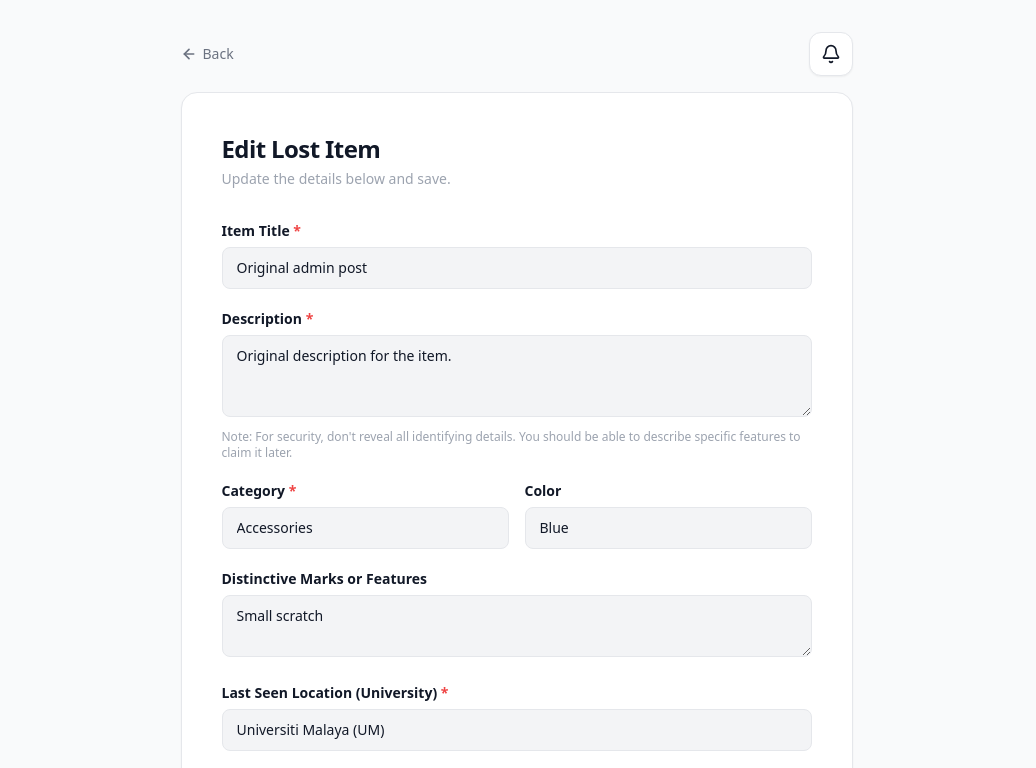
ReportLostItemPage - admin edit › sends the edited fields and status, then returns to the item
Replace the text in the field showing "Original admin post" below "Item Title" with "Edited by administrator" at [516, 268], box [222, 247, 812, 289]
(page scrolled)
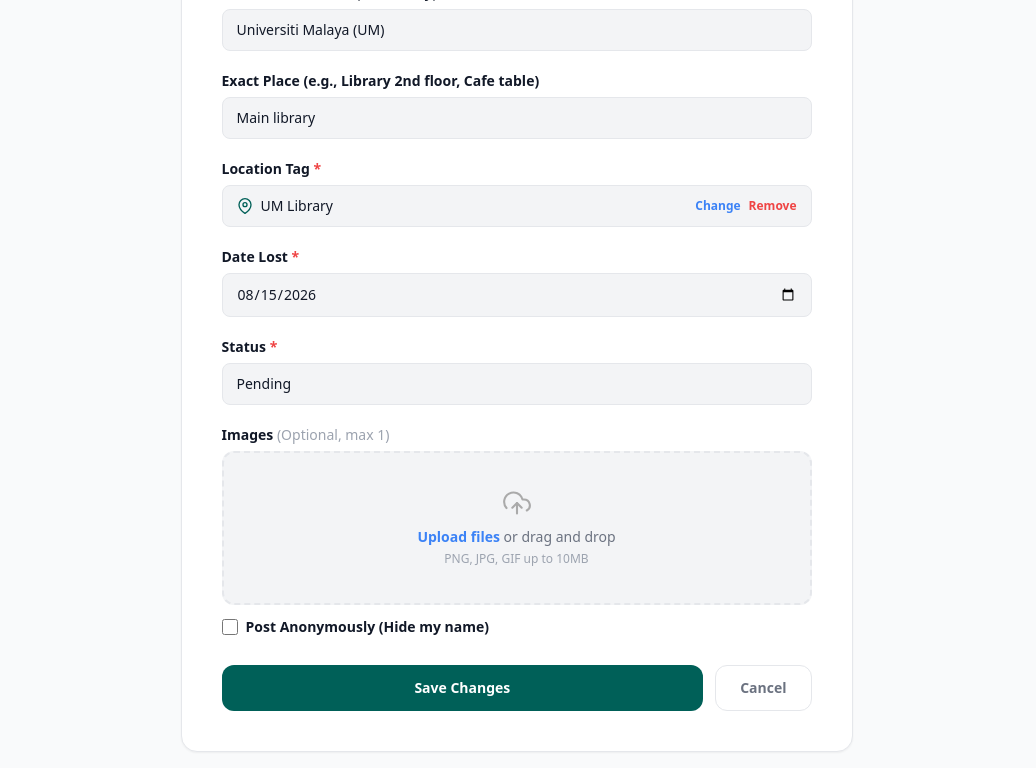
Select "Approved" in the dropdown named "status" below "Status" at [516, 384], box [222, 363, 812, 405]
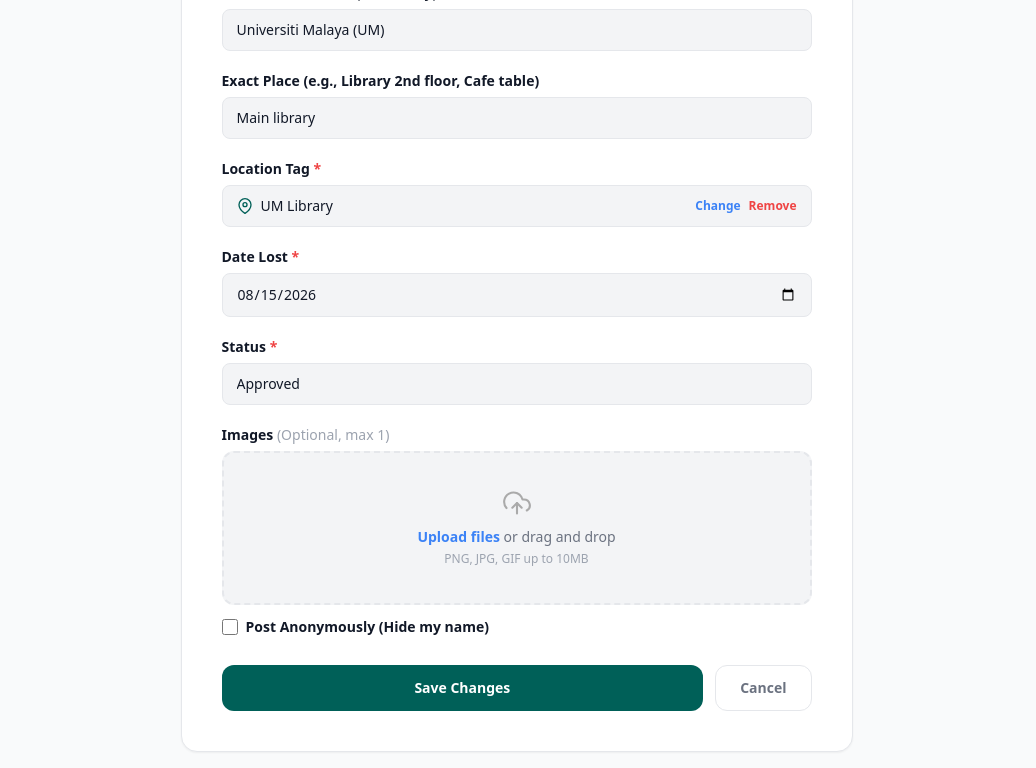
Click the button "Save Changes".
click(462, 688)  # box [222, 665, 703, 711]
(page scrolled)
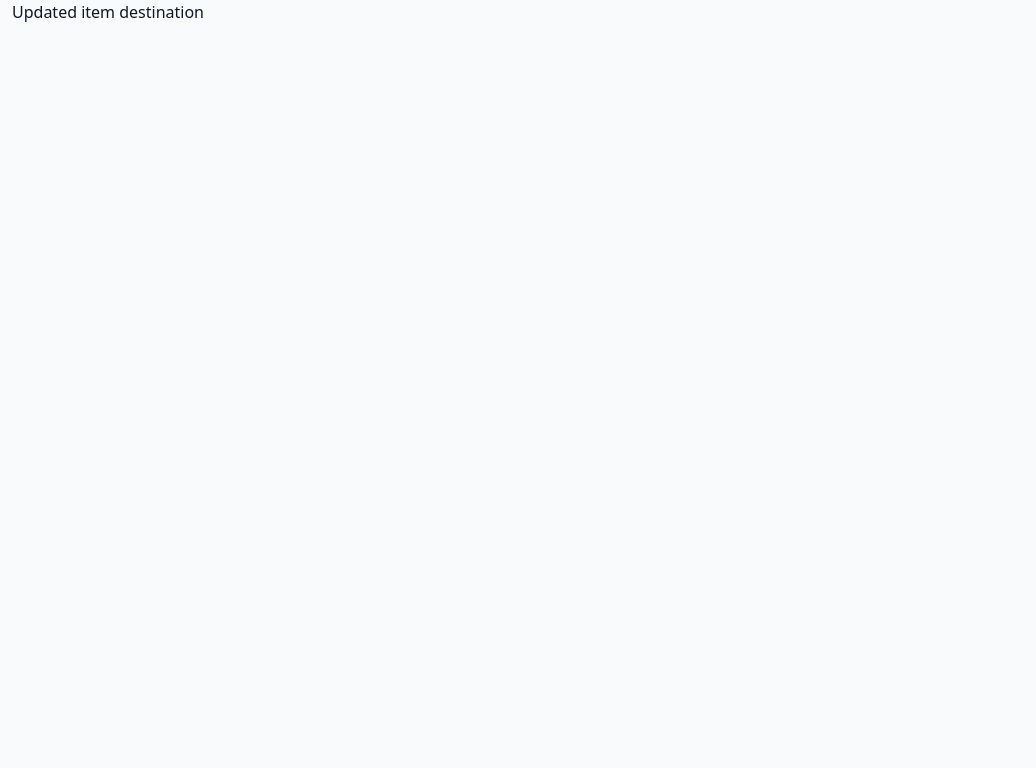
Expected: the text "Updated item destination" is shown, [12, 1, 204, 23]
